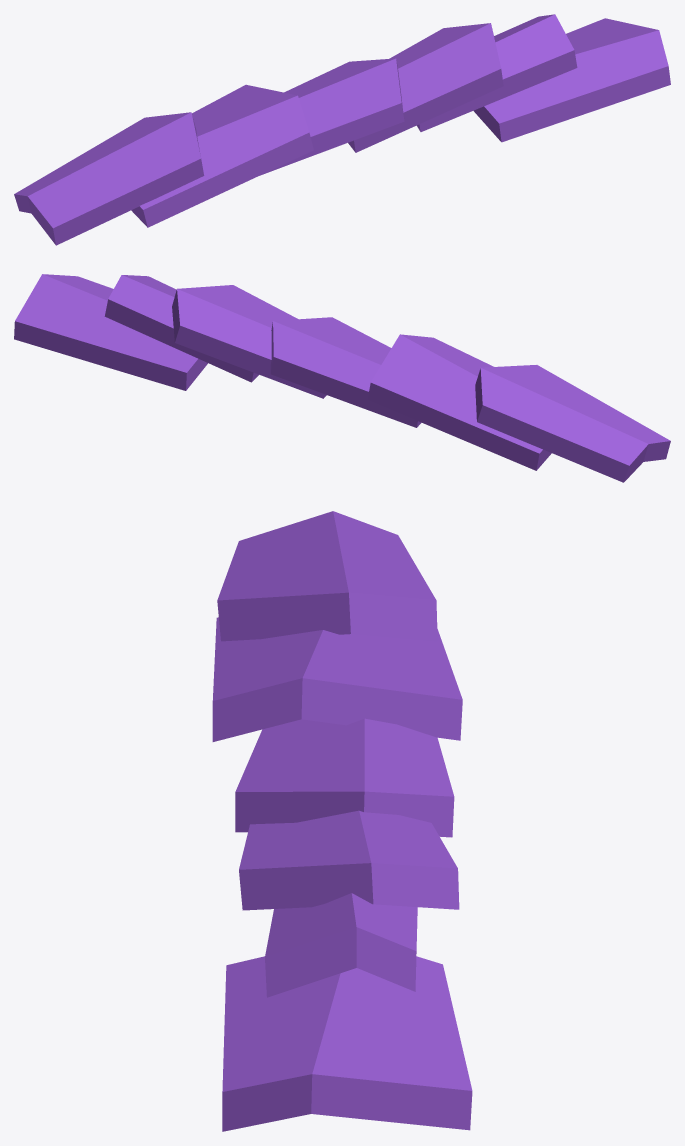
File: Roof 02 Finish Top.fbx
3 views of the same model, one above another, from view 1: azimuth 30°, elevation 25°; view 2: azimuth 150°, elevation 25°; view 3: azimuth 270°, elevation 25° (orthographic). The views are drawn at different scales.
Visible parts, largest first — view 1: Roof 02 Finish Top; view 2: Roof 02 Finish Top; view 3: Roof 02 Finish Top.
Boxes of the visible parts, left/top/right/bottom form: Roof 02 Finish Top: left=14, top=14, right=670, bottom=245; Roof 02 Finish Top: left=14, top=274, right=670, bottom=482; Roof 02 Finish Top: left=212, top=511, right=472, bottom=1131.
Size of the model in its own units: 404 by 52.65 by 74.04.
